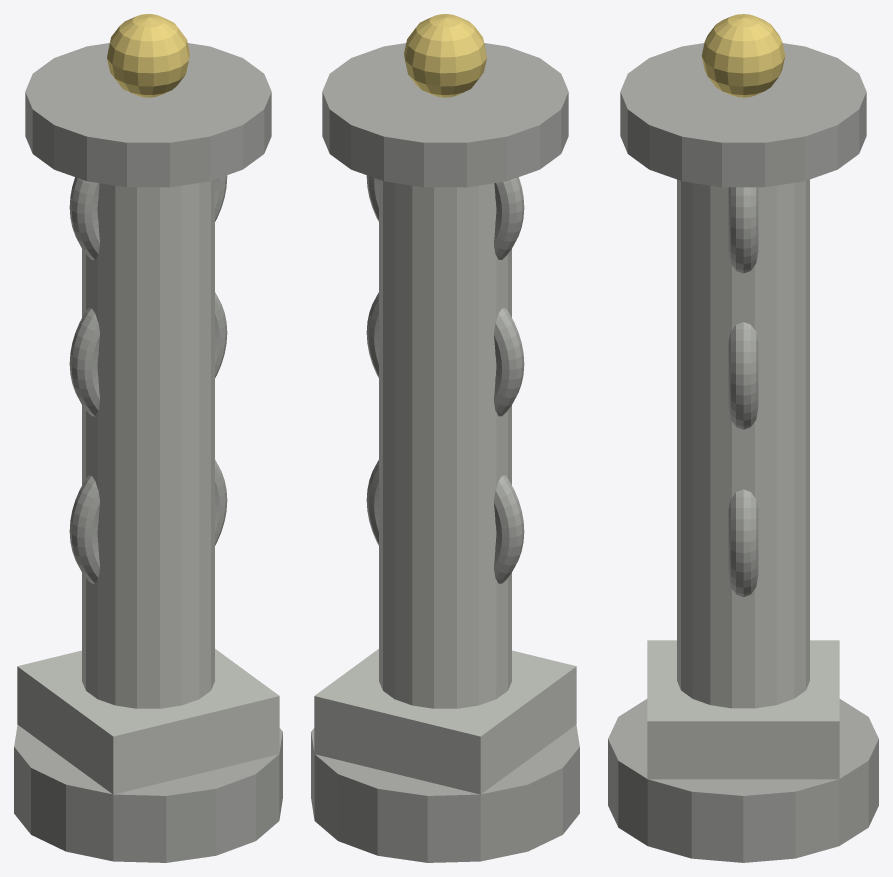
The model's file is stone_sutra.glb.
The picture shows the model from 3 angles, left to right: view 1: azimuth 30°, elevation 25°; view 2: azimuth 150°, elevation 25°; view 3: azimuth 270°, elevation 25°; orthographic projection.
Visible parts, largest first — view 1: stone_sutra; view 2: stone_sutra; view 3: stone_sutra.
Boxes of the visible parts, bbox=[...] form: stone_sutra: bbox=[14, 14, 282, 862]; stone_sutra: bbox=[311, 14, 579, 862]; stone_sutra: bbox=[608, 14, 878, 862].
Bounding box in the file's own units: 1.1 × 3.53 × 1.1.
